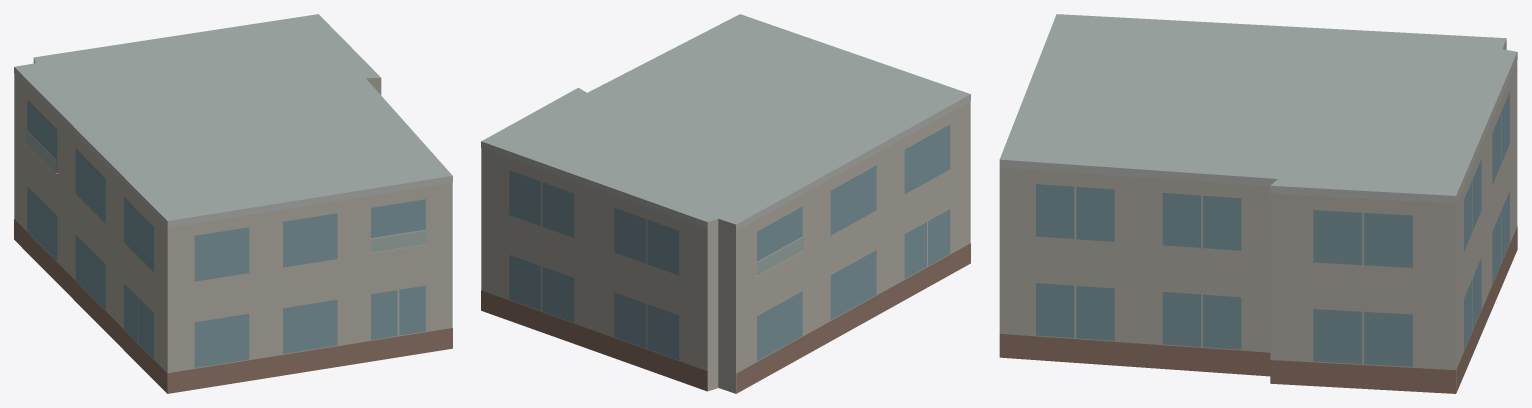
File: survey-upis-32762644.glb
3 views of the same model, side by side, from view 1: azimuth 30°, elevation 25°; view 2: azimuth 150°, elevation 25°; view 3: azimuth 270°, elevation 25° (orthographic). The views are drawn at different scales.
Visible parts, largest first — view 1: survey-upis-32762644.tmp; view 2: survey-upis-32762644.tmp; view 3: survey-upis-32762644.tmp.
Part boxes in pixels (x1,y1,x2,y2): survey-upis-32762644.tmp: (14,14,452,393); survey-upis-32762644.tmp: (481,14,970,393); survey-upis-32762644.tmp: (999,14,1517,393).
Bounding box in the file's own units: 12.03 × 6.1 × 14.48.
